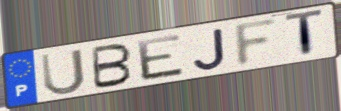B: (91, 42, 134, 91)
E: (135, 32, 188, 83)
F: (233, 15, 281, 70)
J: (192, 26, 228, 71)
T: (283, 7, 325, 60)
U: (38, 47, 87, 98)
